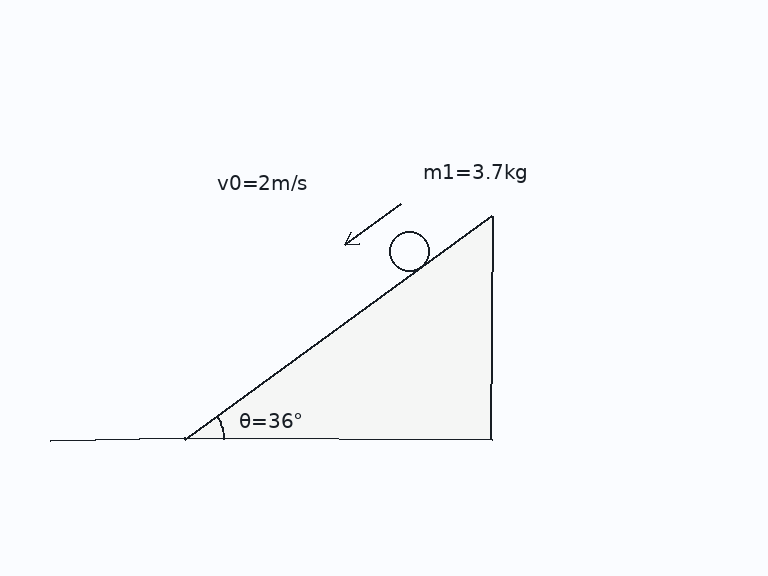ball: (387, 229, 431, 273)
ramp: (182, 214, 493, 441)
